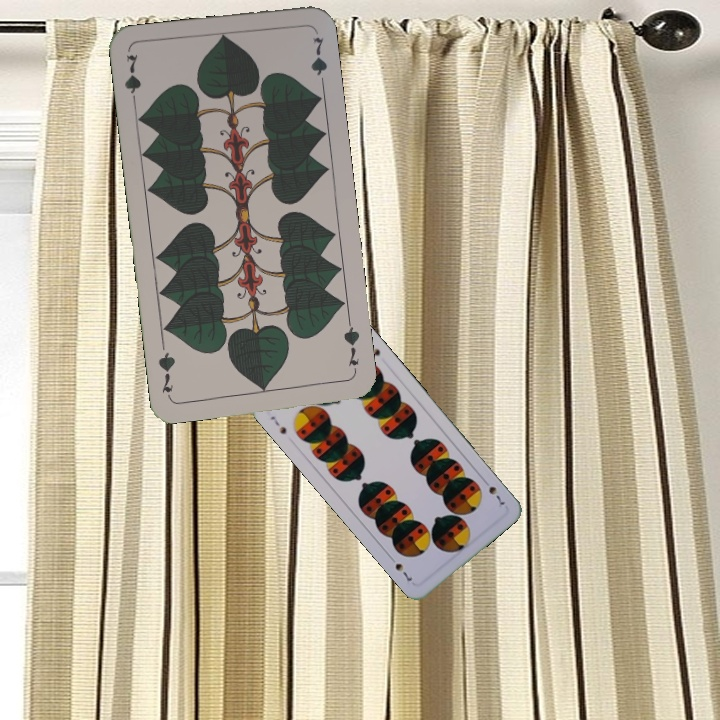G7: (121, 50, 144, 109), (339, 317, 362, 376)
S7: (479, 475, 507, 508), (266, 412, 289, 437)
